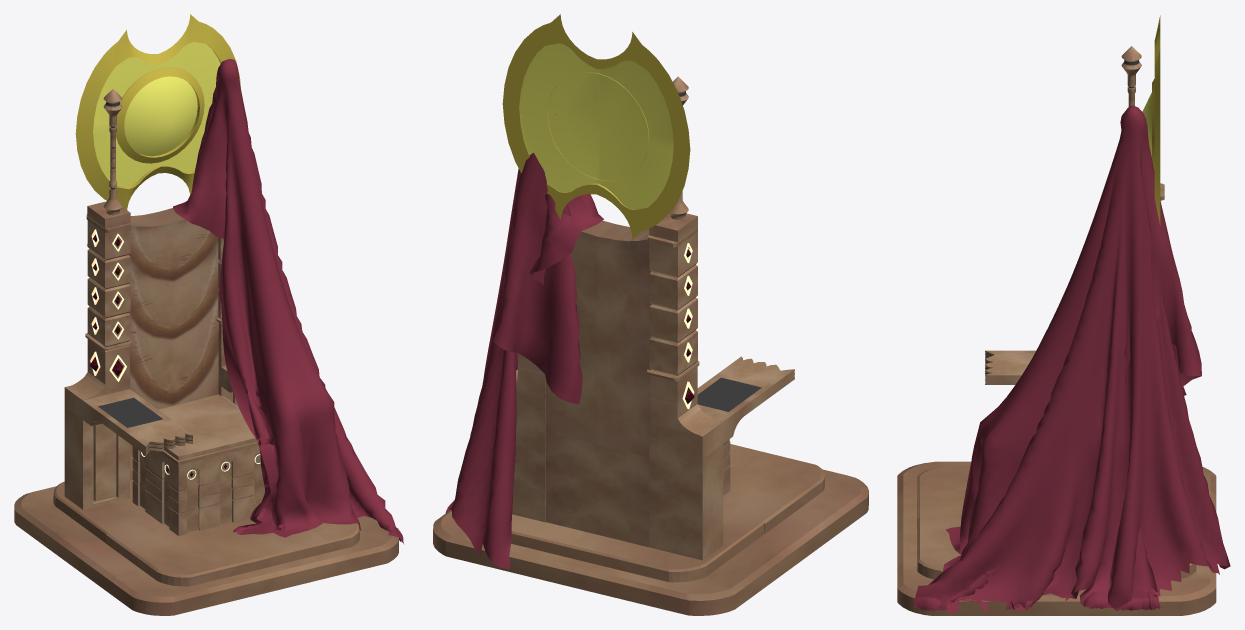
Rendered from god_of_war_1_kratoss_throne.glb.
3 renders of one model, left to right at view 1: azimuth 30°, elevation 25°; view 2: azimuth 150°, elevation 25°; view 3: azimuth 270°, elevation 25°, orthographic. The views are drawn at different scales.
Parts seen in each view (by area): view 1: throne_3, throne2_1, throne3_2, shield_0; view 2: throne_3, throne3_2, shield_0, throne2_1; view 3: throne2_1, throne3_2, throne_3, shield_0.
Boxes of the visible parts, left/top/right/bottom form: throne_3: left=64, top=89, right=264, bottom=535; throne2_1: left=173, top=59, right=404, bottom=544; throne3_2: left=14, top=480, right=398, bottom=615; shield_0: left=75, top=14, right=240, bottom=209; throne_3: left=512, top=76, right=794, bottom=560; throne3_2: left=433, top=444, right=868, bottom=615; shield_0: left=502, top=14, right=690, bottom=239; throne2_1: left=445, top=152, right=603, bottom=569; throne2_1: left=912, top=105, right=1230, bottom=613; throne3_2: left=897, top=461, right=1216, bottom=615; throne_3: left=985, top=46, right=1164, bottom=384; shield_0: left=1142, top=15, right=1160, bottom=225.
Size of the model in its own units: 5.24 by 8.71 by 5.1.
Materials: 9 (6 with a texture image).
